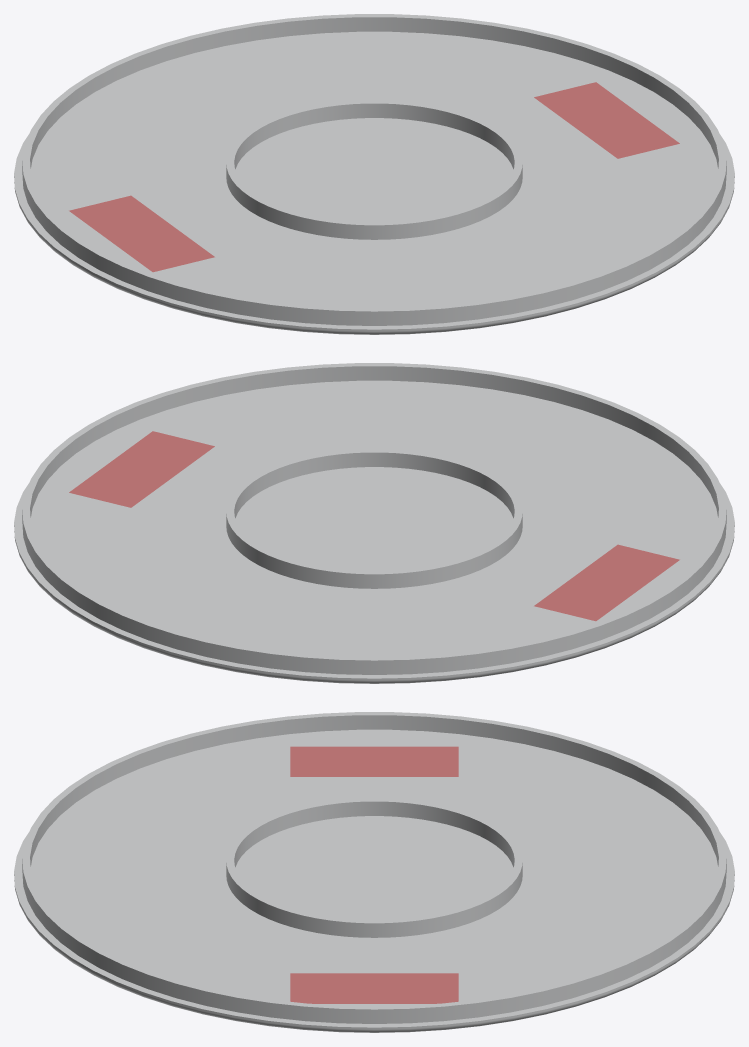
File: step_03.glb
3 views of the same model, one above another, from view 1: azimuth 30°, elevation 25°; view 2: azimuth 150°, elevation 25°; view 3: azimuth 270°, elevation 25° (orthographic).
Visible parts, largest first — view 1: part__bottom cover, removed__bottom cover; view 2: part__bottom cover, removed__bottom cover; view 3: part__bottom cover, removed__bottom cover.
Part boxes in pixels (x1,y1,x2,y2): part__bottom cover: (14,14,734,334); removed__bottom cover: (69,82,679,272); part__bottom cover: (14,363,734,683); removed__bottom cover: (69,431,679,621); part__bottom cover: (14,712,734,1032); removed__bottom cover: (290,746,458,1003).
Bounding box in the file's own units: 180 × 6 × 180.
